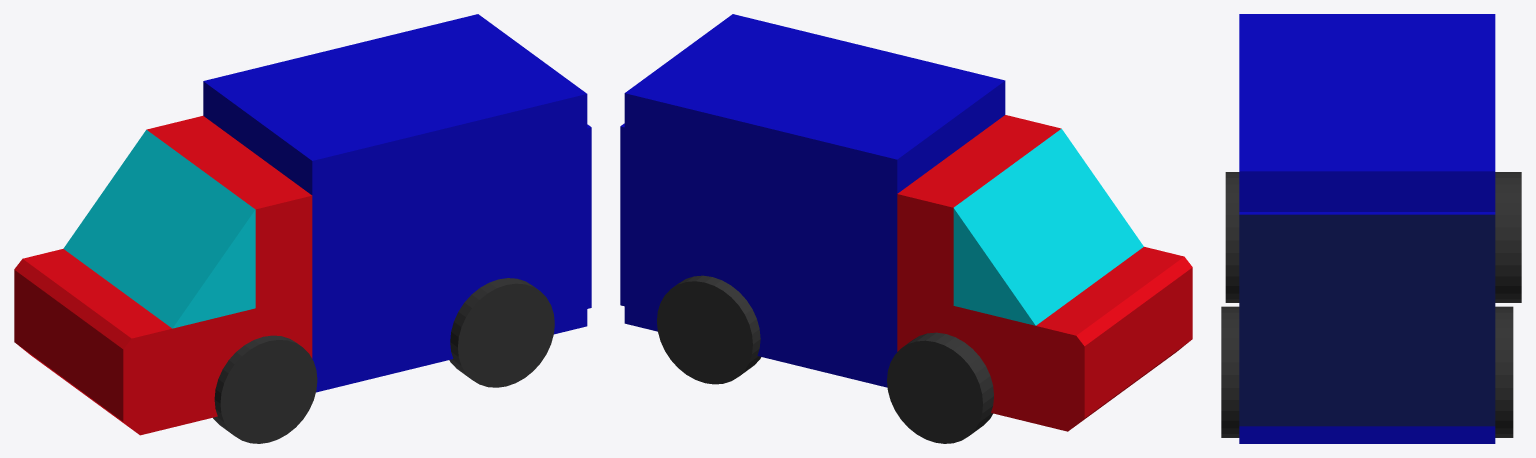
File: toy-track.fbx
3 views of the same model, side by side, from view 1: azimuth 30°, elevation 25°; view 2: azimuth 150°, elevation 25°; view 3: azimuth 270°, elevation 25° (orthographic). The views are drawn at different scales.
Parts seen in each view (by area): view 1: Куб; view 2: Куб; view 3: Куб.
Part boxes in pixels (box(x1,y1,x2,y2)): Куб: box(14, 14, 591, 443); Куб: box(620, 14, 1192, 443); Куб: box(1221, 14, 1521, 443).
Bounding box in the file's own units: 496 × 268 × 235.
